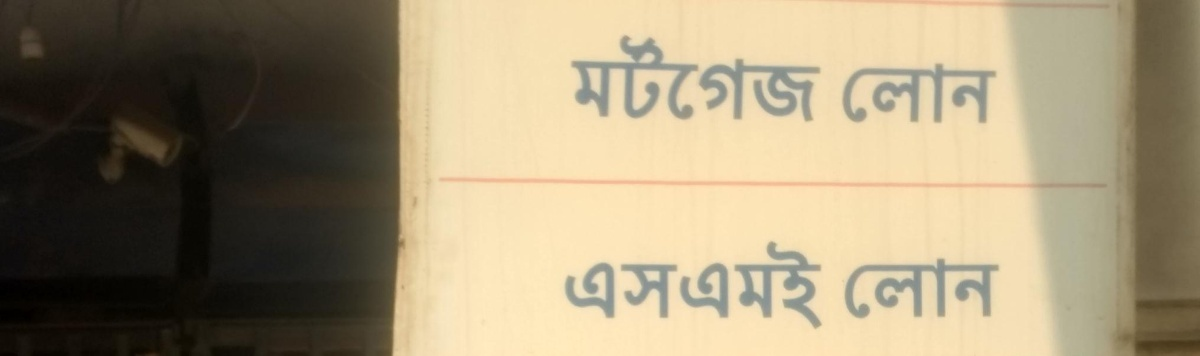text: (577, 236, 592, 335), (593, 236, 608, 335), (609, 236, 624, 335), (625, 236, 640, 335), (641, 236, 656, 335), (657, 236, 672, 335), (673, 236, 688, 335), (689, 236, 704, 335), (705, 236, 720, 335), (721, 236, 736, 335), (737, 236, 752, 335), (753, 236, 768, 335), (769, 236, 784, 335), (785, 236, 800, 335), (801, 236, 816, 335), (577, 35, 592, 126), (593, 35, 608, 126), (609, 35, 624, 126), (625, 35, 640, 126), (641, 35, 656, 126), (657, 35, 672, 126), (673, 35, 688, 126), (689, 35, 704, 126), (705, 35, 720, 126), (721, 35, 736, 126), (737, 35, 752, 126), (753, 35, 768, 126), (769, 35, 784, 126), (785, 35, 800, 126), (801, 35, 816, 126), (849, 58, 864, 126), (865, 58, 880, 126), (881, 58, 896, 126), (897, 58, 912, 126), (913, 58, 928, 126), (929, 58, 944, 126), (945, 58, 960, 126), (961, 58, 976, 126), (977, 58, 992, 126), (566, 236, 576, 335), (865, 257, 880, 322), (881, 257, 896, 322), (897, 257, 912, 322), (913, 257, 928, 322), (929, 257, 944, 322), (945, 257, 960, 322), (961, 257, 976, 322), (977, 257, 992, 322), (850, 257, 864, 322), (817, 35, 825, 126), (817, 236, 824, 335), (993, 257, 1002, 322), (993, 58, 999, 126), (572, 35, 576, 126), (847, 58, 848, 126)
